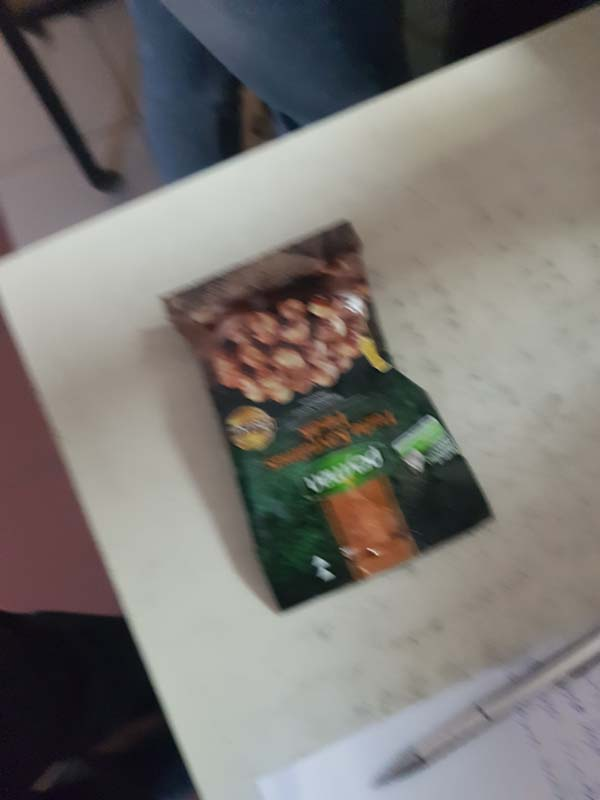peysankavrulmusfindik: (153, 214, 499, 610)
